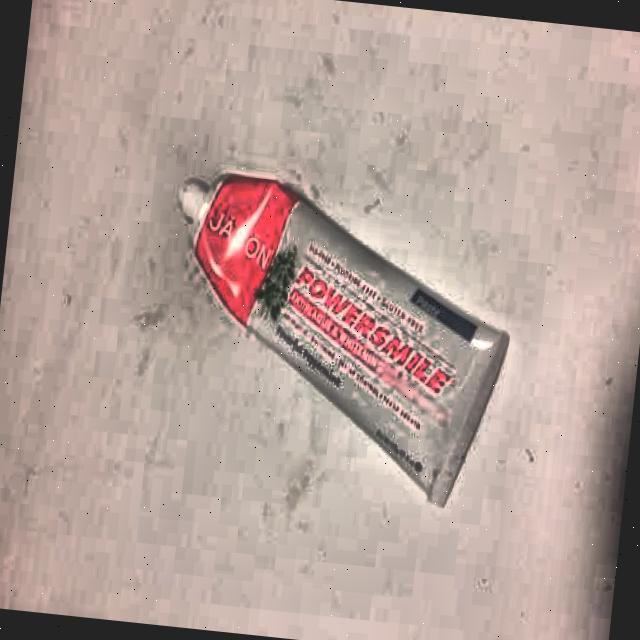trash: (146, 158, 524, 510)
